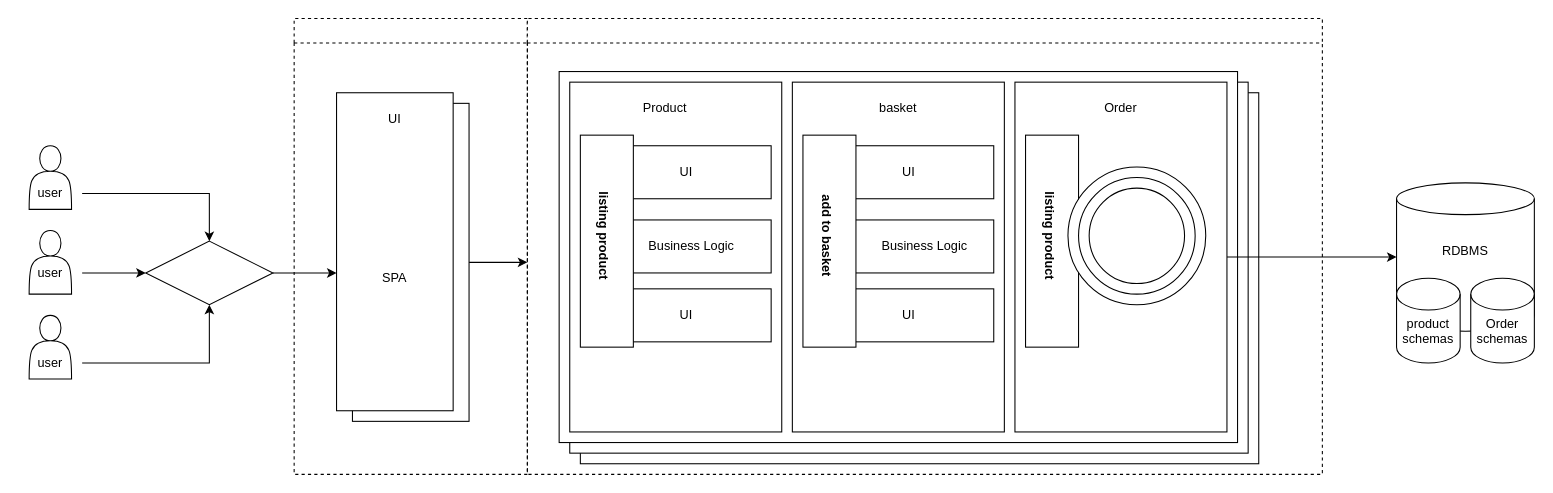
Image size: 1553x493. Some labels were removed from this diagram. The shapes that lost their labels are listed below. From the top down, each one's box as (x1, y1, x2, y2) in pixels, then its label:
(293, 17, 527, 474): frontend
(526, 17, 1322, 474): backend
(1088, 187, 1185, 284): clear Architecture
(145, 240, 273, 305): Relationship
